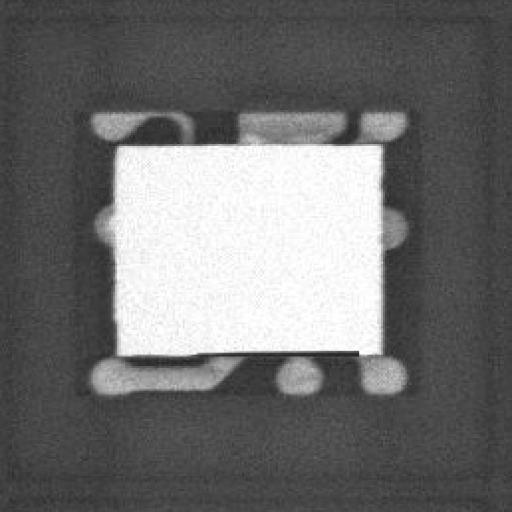DIE_BROKEN: (232, 343, 359, 355)
